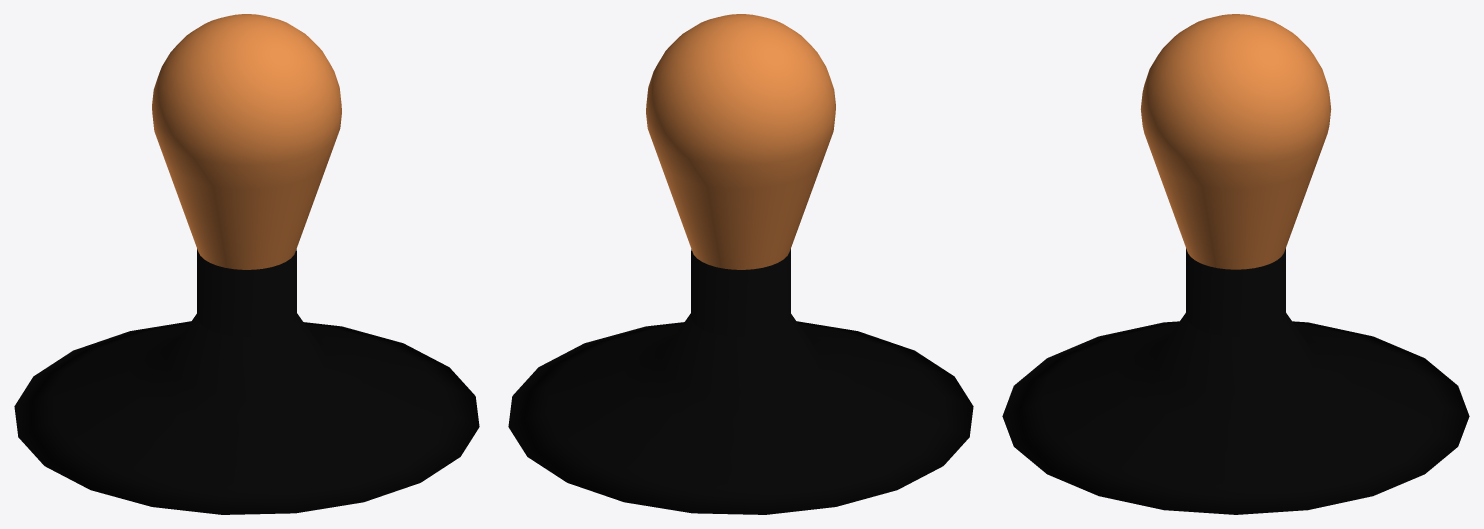
The model's file is Lamp.fbx.
3 views of the same model, side by side, from view 1: azimuth 30°, elevation 25°; view 2: azimuth 150°, elevation 25°; view 3: azimuth 270°, elevation 25° (orthographic).
Visible parts, largest first — view 1: Cylinder; view 2: Cylinder; view 3: Cylinder.
Part boxes in pixels (x1,y1,x2,y2): Cylinder: (14,14,479,514); Cylinder: (508,14,973,514); Cylinder: (1002,14,1469,514).
Size of the model in its own units: 491 by 456 by 491.
